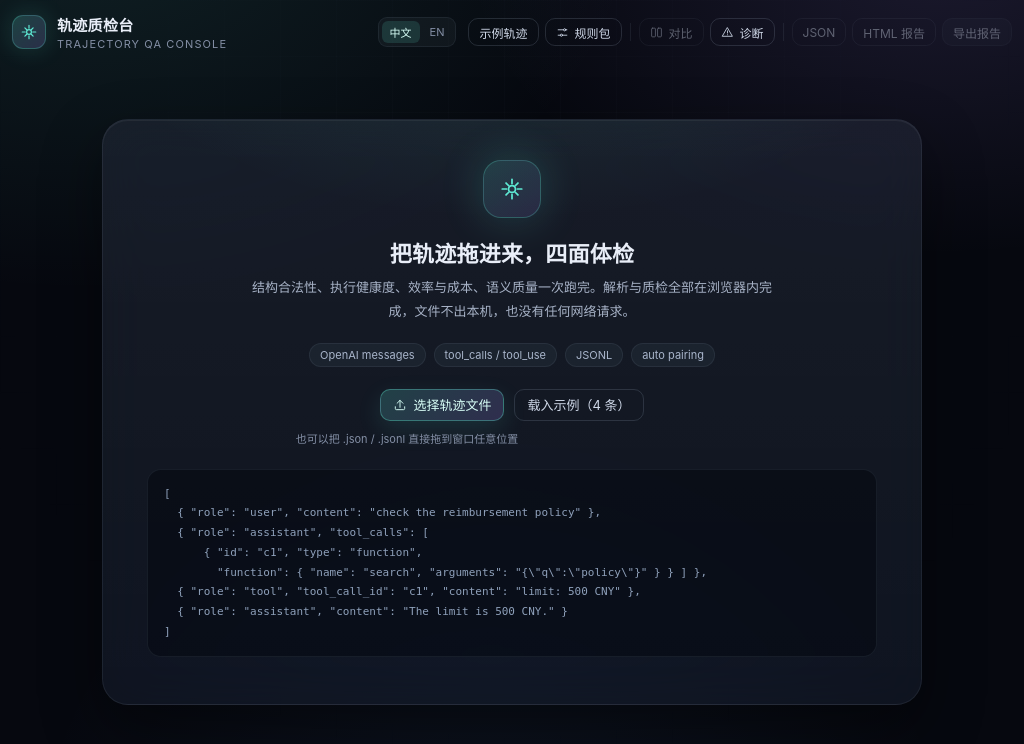
Test: App smoke › loads the four demo traces and shows them in the session list
The width and height of the screenshot is (1024, 744).
Click the button "载入示例（4 条）".
click(579, 405)  # box [514,389,644,421]
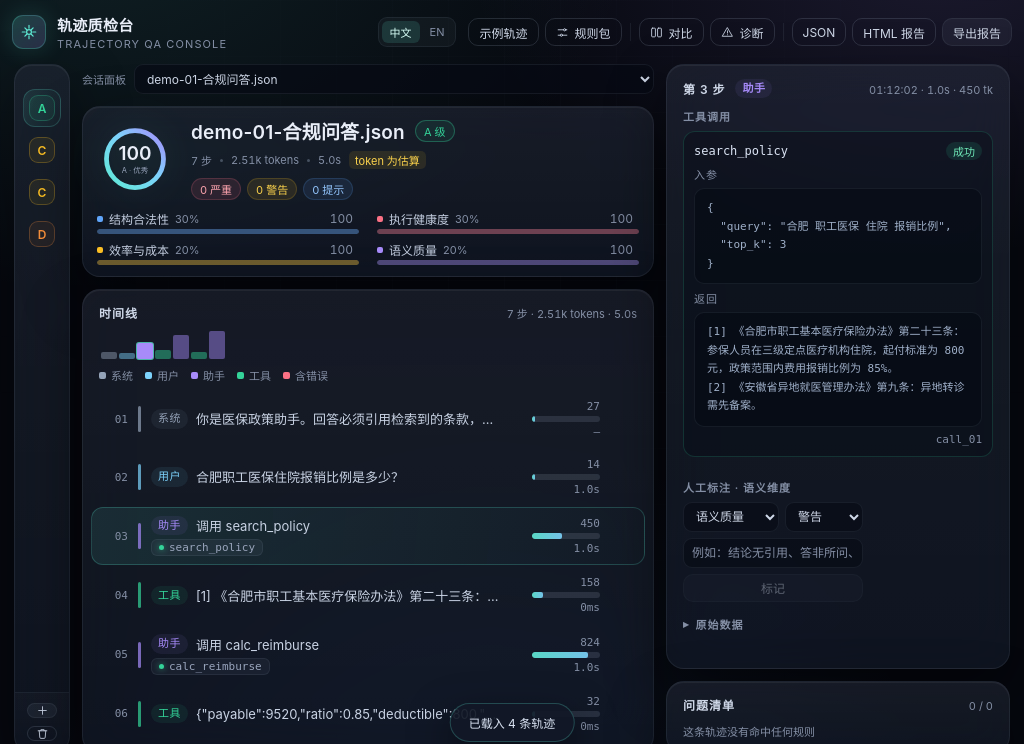
Expected: the text "时间线" is shown, [99,304,138,321]
Expected: the button named "demo-04" is shown, [23,215,61,253]
Expected: the number of buttons named "demo-0" is 4, [23,89,61,127]; [23,131,61,169]; [23,173,61,211]; [23,215,61,253]
